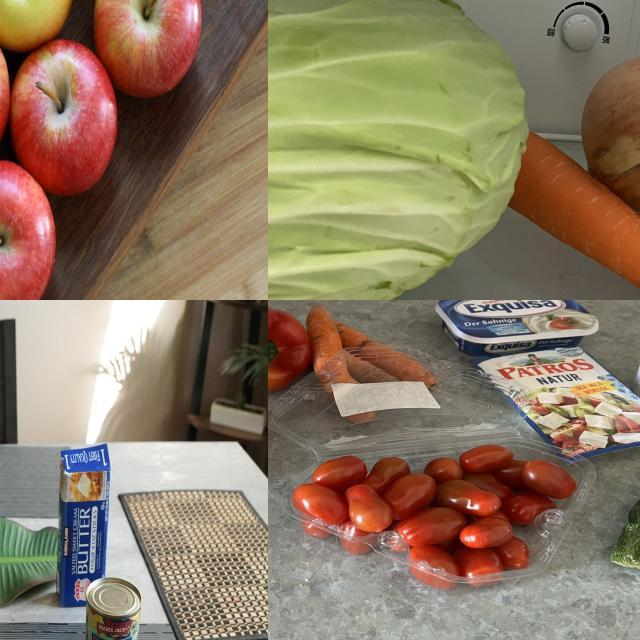bell_pepper: (269, 301, 309, 399)
cabbage: (269, 1, 536, 301)
carrot: (504, 129, 640, 301), (313, 308, 383, 430), (333, 314, 445, 387)
onion: (579, 52, 640, 241)
tomato: (285, 433, 605, 588)
